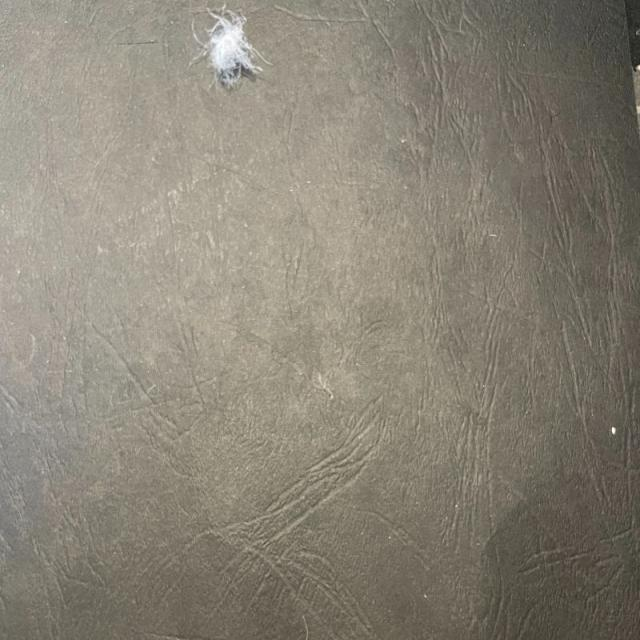feather: (194, 6, 256, 84)
